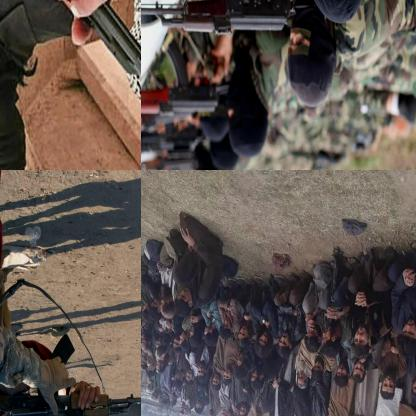rifle: (0, 0, 140, 169), (0, 331, 140, 415), (141, 40, 244, 122), (141, 0, 300, 46)
